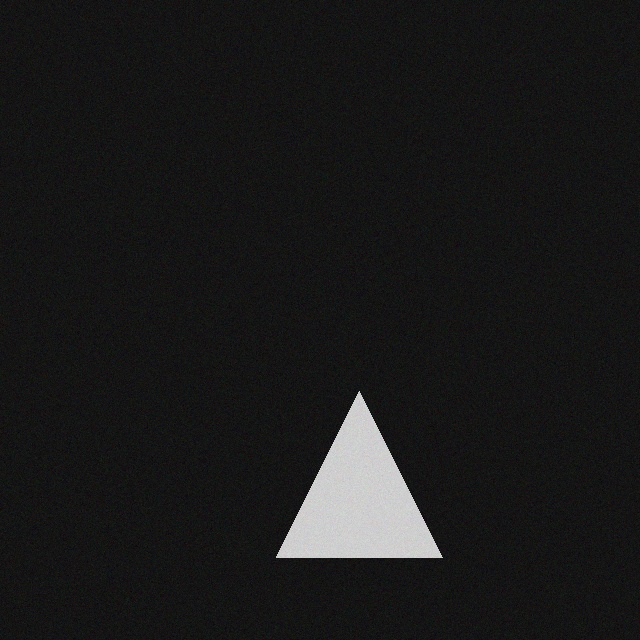triangle: (266, 392, 432, 558)
